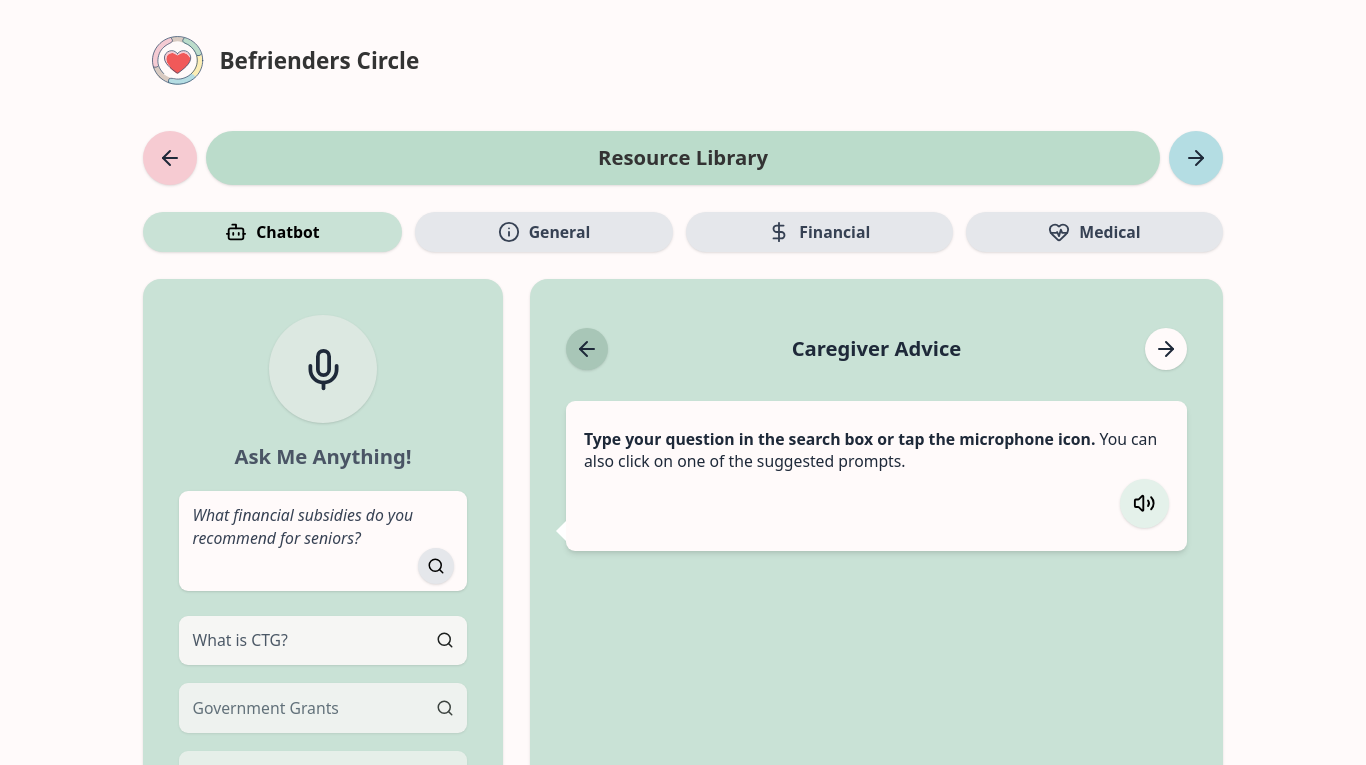
Test: <CategoryTabs /> › shows empty state when no resources in category
Click the button "General" at (544, 232), box [415, 212, 672, 252]
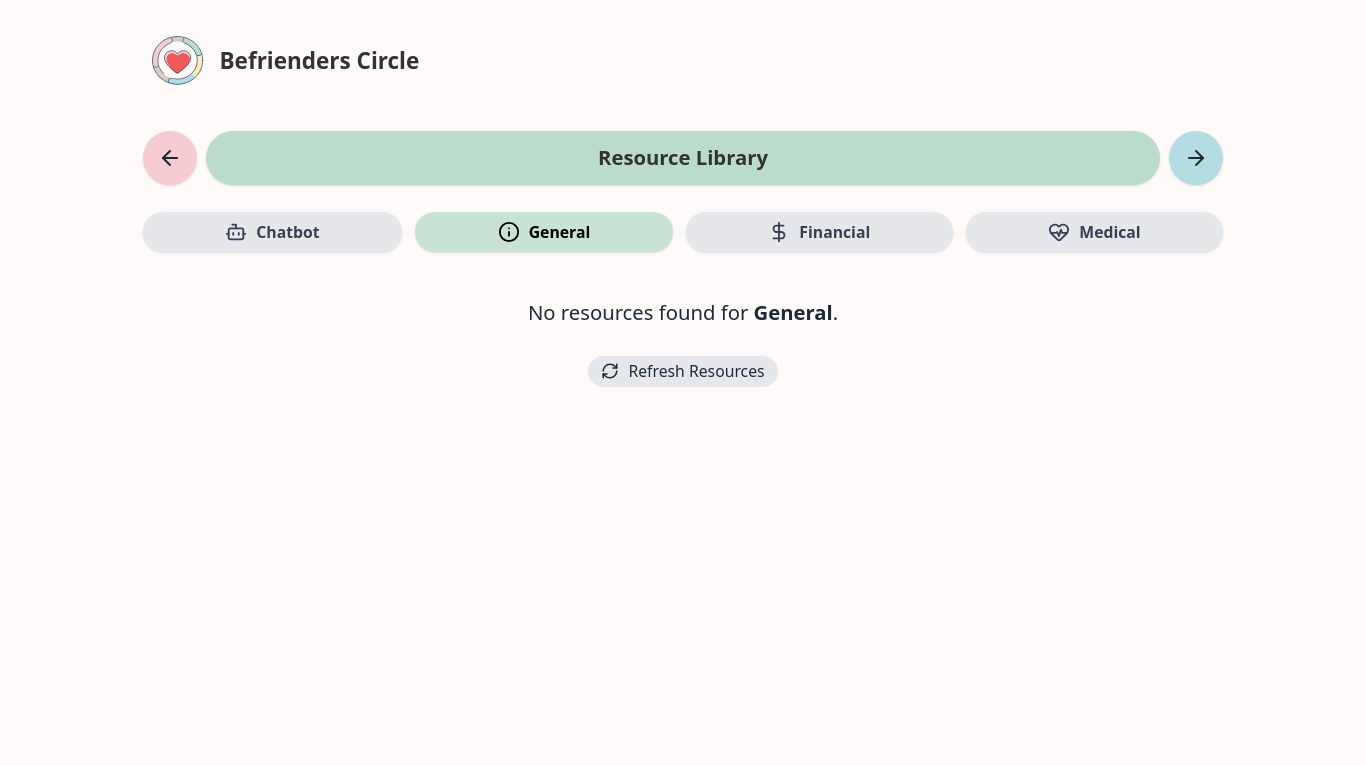
Result: the text "No resources found for General. Refresh Resources" is shown at [528, 298, 838, 387]
